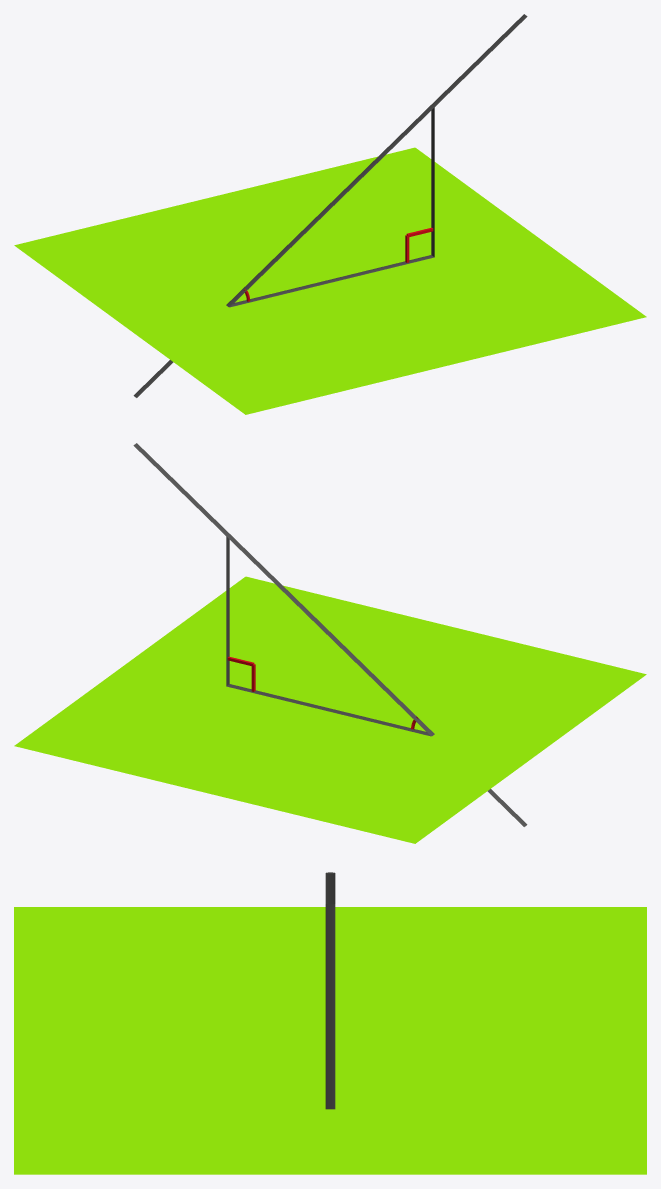
The model's file is Line_angle_plane.glb.
3 views of the same model, one above another, from view 1: azimuth 30°, elevation 25°; view 2: azimuth 150°, elevation 25°; view 3: azimuth 270°, elevation 25° (orthographic). The views are drawn at different scales.
Visible parts, largest first — view 1: Plane, Cylinder.002, Cylinder, Cylinder.001; view 2: Plane, Cylinder.002, Cylinder, Cylinder.001; view 3: Plane, Cylinder.001.
Boxes of the visible parts, box(x1,y1,x2,y2) form: Plane: box(14, 147, 646, 414); Cylinder.002: box(133, 14, 527, 397); Cylinder: box(230, 255, 434, 307); Cylinder.001: box(431, 107, 434, 256); Plane: box(14, 576, 646, 843); Cylinder.002: box(133, 443, 527, 826); Cylinder: box(226, 684, 430, 736); Cylinder.001: box(226, 536, 229, 685); Plane: box(14, 907, 646, 1174); Cylinder.001: box(325, 904, 335, 1109).
Bounding box in the file's own units: 3.91 × 2.67 × 3.91.
